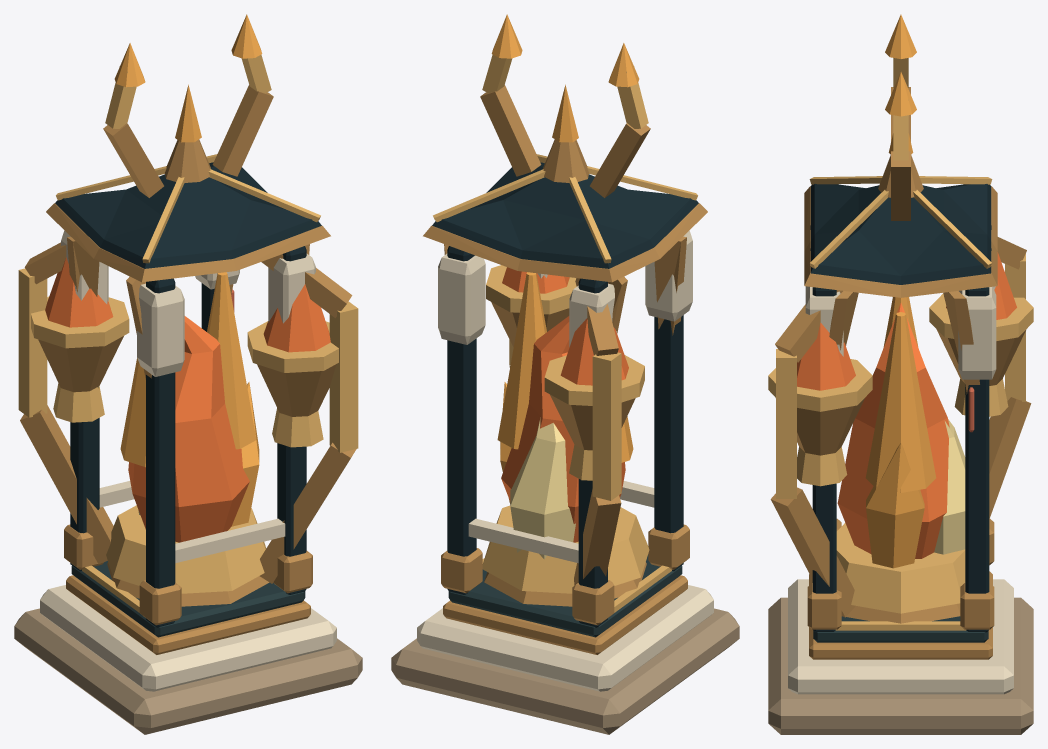
Rendered from Tower_FlameLanternL3.fbx.
The picture shows the model from 3 angles, left to right: view 1: azimuth 30°, elevation 25°; view 2: azimuth 150°, elevation 25°; view 3: azimuth 270°, elevation 25°; orthographic projection.
Parts seen in each view (by area): view 1: Tower_FlameLanternL3; view 2: Tower_FlameLanternL3; view 3: Tower_FlameLanternL3.
Part boxes in pixels (bbox=[...]): Tower_FlameLanternL3: bbox=[14, 14, 362, 734]; Tower_FlameLanternL3: bbox=[391, 14, 739, 734]; Tower_FlameLanternL3: bbox=[768, 14, 1033, 734].
Size of the model in its own units: 0.94 by 2.51 by 0.94.
